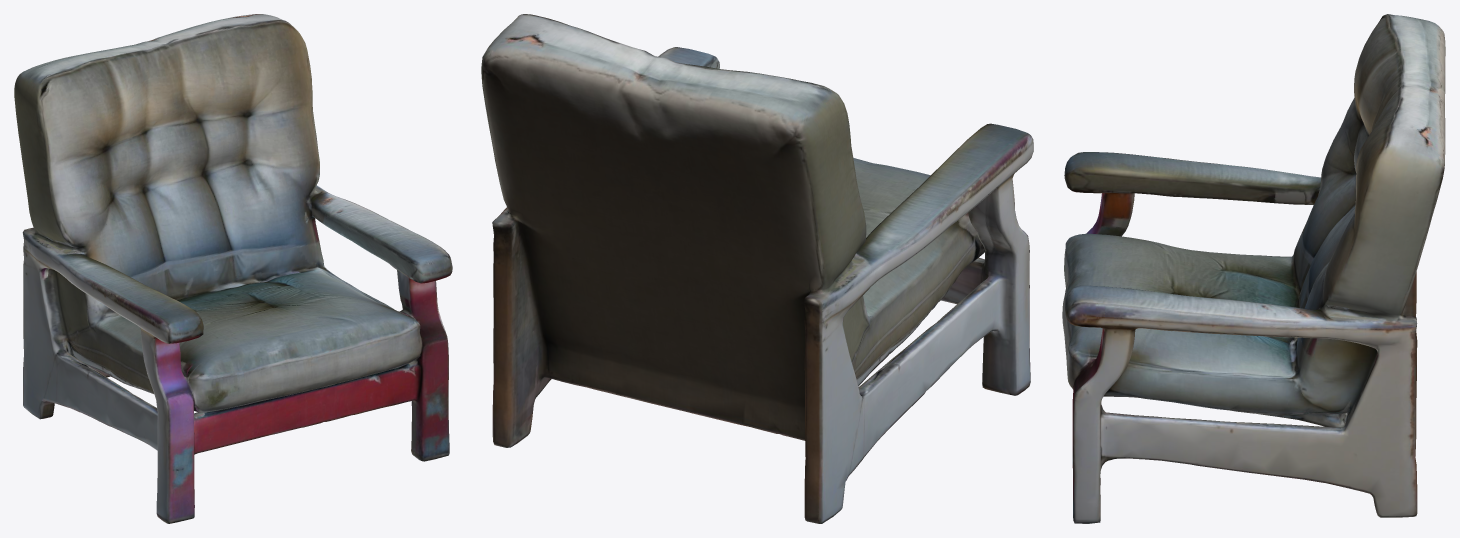
Rendered from Worn-out chair.gltf.
The picture shows the model from 3 angles, left to right: view 1: azimuth 30°, elevation 25°; view 2: azimuth 150°, elevation 25°; view 3: azimuth 270°, elevation 25°; orthographic projection. The views are drawn at different scales.
Visible parts, largest first — view 1: Mesh1.0; view 2: Mesh1.0; view 3: Mesh1.0.
Part boxes in pixels (x1=…): Mesh1.0: x1=14, y1=14, x2=452, y2=523; Mesh1.0: x1=481, y1=14, x2=1033, y2=523; Mesh1.0: x1=1062, y1=14, x2=1445, y2=523.
Size of the model in its own units: 1.78 by 2 by 1.86.
1 material, 1 textured.
